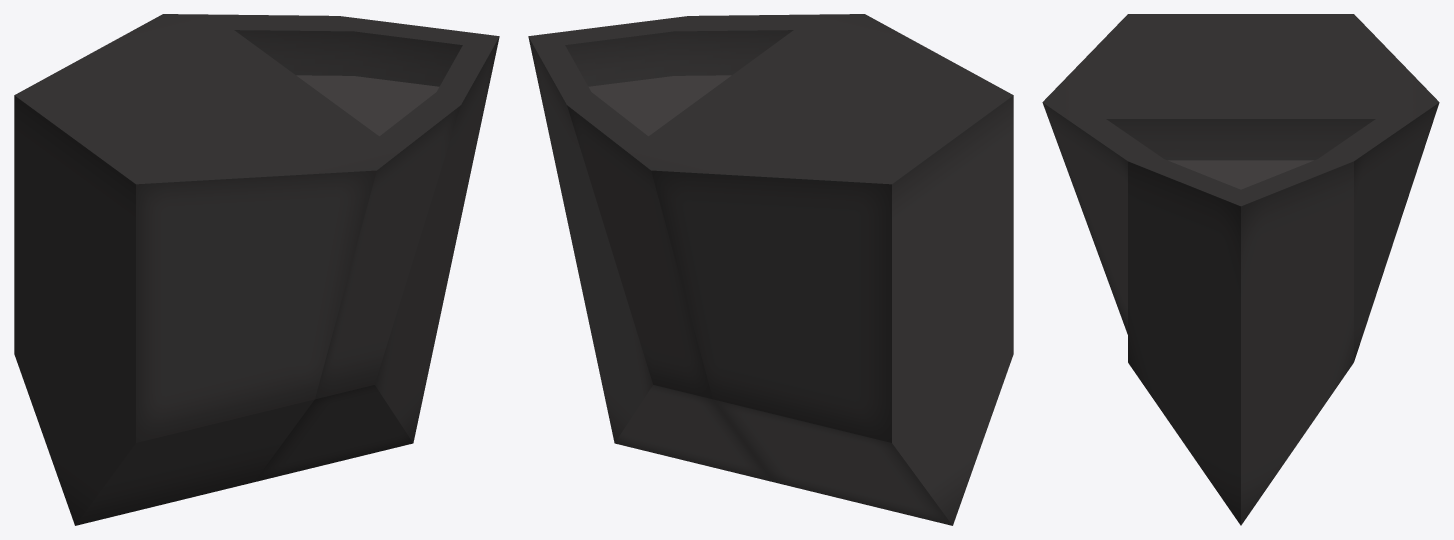
The model's file is SM_Candle.fbx.
The picture shows the model from 3 angles, left to right: view 1: azimuth 30°, elevation 25°; view 2: azimuth 150°, elevation 25°; view 3: azimuth 270°, elevation 25°; orthographic projection. The views are drawn at different scales.
Parts seen in each view (by area): view 1: pCube32; view 2: pCube32; view 3: pCube32.
Part boxes in pixels (left/top/right/bottom): pCube32: left=14, top=14, right=499, bottom=525; pCube32: left=528, top=14, right=1013, bottom=525; pCube32: left=1042, top=14, right=1439, bottom=525.
Bounding box in the file's own units: 0.9242 × 0.8033 × 0.8061.
1 material, 1 textured.
